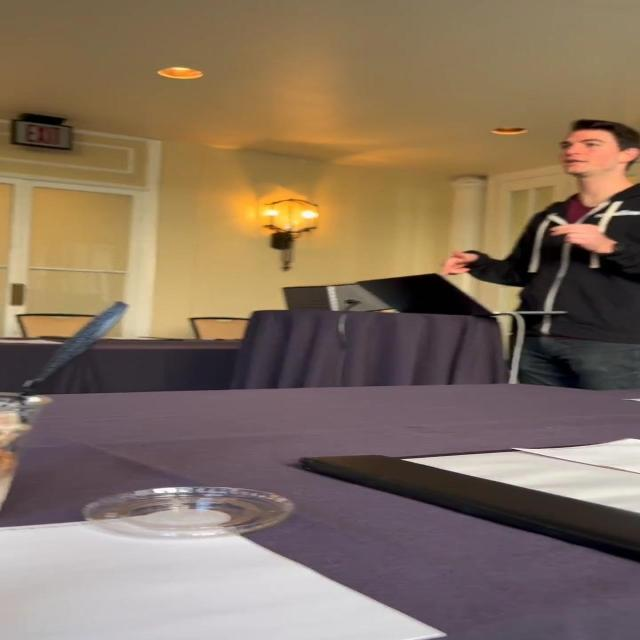NO-Mask: (556, 126, 636, 182)
